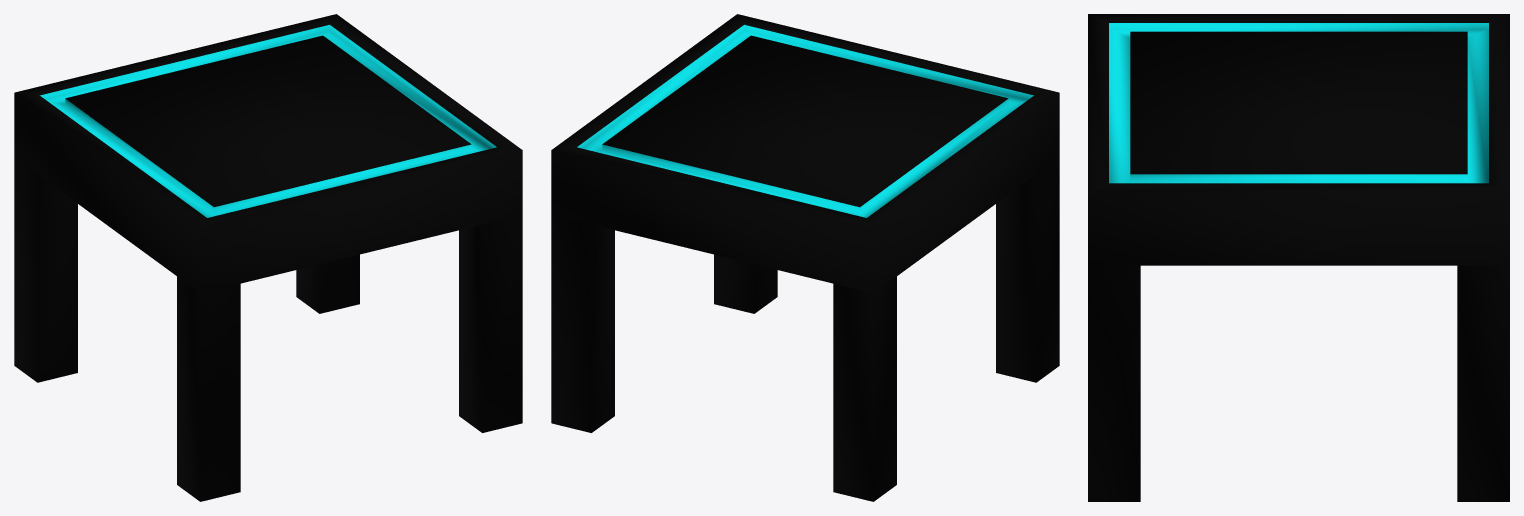
The model's file is Table.fbx.
3 renders of one model, left to right at view 1: azimuth 30°, elevation 25°; view 2: azimuth 150°, elevation 25°; view 3: azimuth 270°, elevation 25°, orthographic. The views are drawn at different scales.
Visible parts, largest first — view 1: Cube; view 2: Cube; view 3: Cube.
Boxes of the visible parts, x1,y1,x2,y2 form: Cube: (14, 14, 522, 501); Cube: (551, 14, 1059, 501); Cube: (1088, 14, 1509, 501).
Size of the model in its own units: 200 by 162 by 200.
